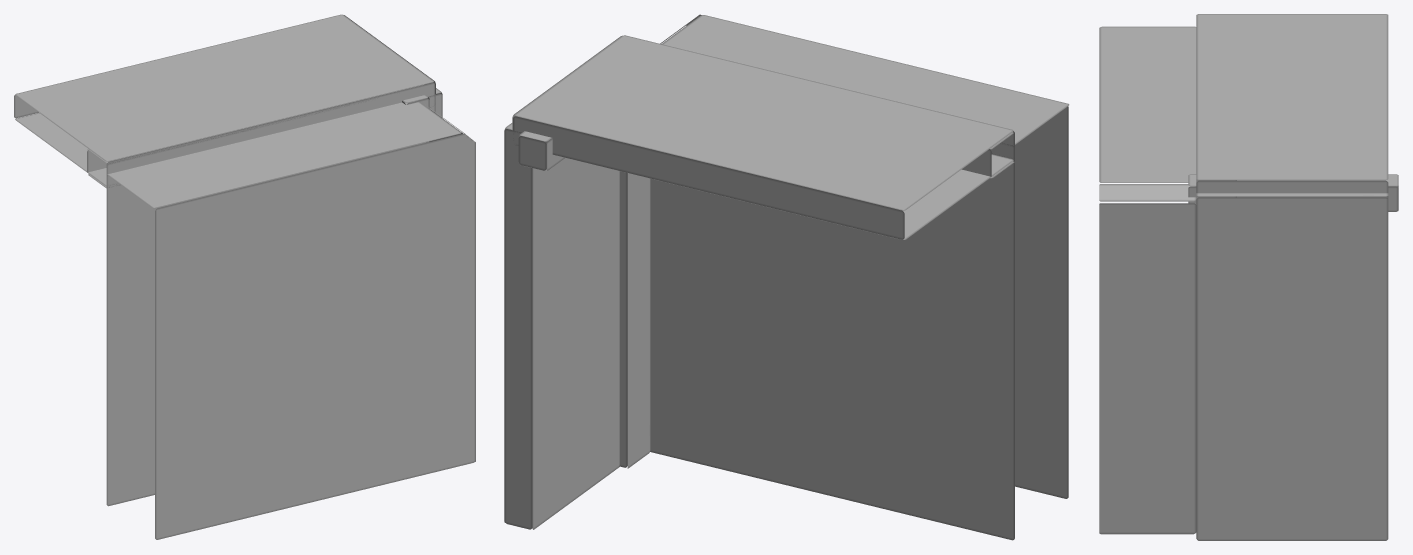
File: pz_bed_bedding_01_large_modern_1_1.obj
3 views of the same model, side by side, from view 1: azimuth 30°, elevation 25°; view 2: azimuth 150°, elevation 25°; view 3: azimuth 270°, elevation 25° (orthographic). The views are drawn at different scales.
Bounding box in the file's own units: 0.995 × 0.975 × 0.74.
1 material, 1 textured.
